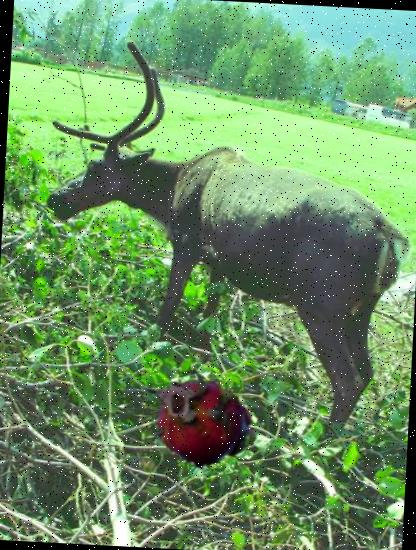Pitahaya: (134, 356, 260, 482)
